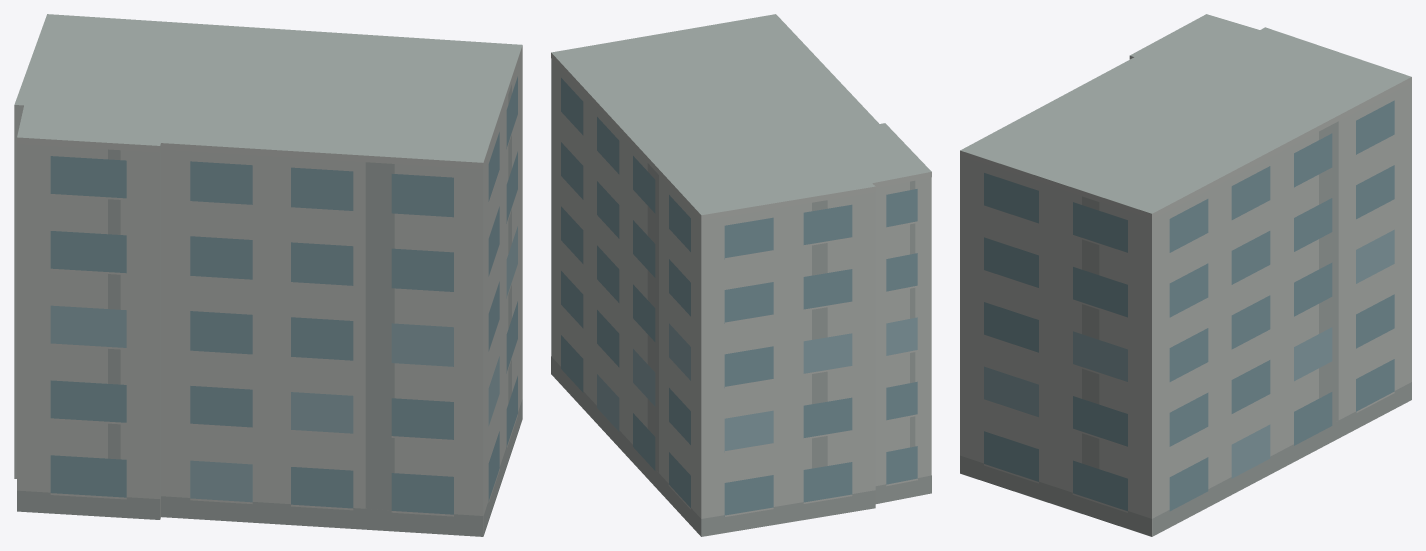
Rendered from survey-upis-32817425.glb.
The picture shows the model from 3 angles, left to right: view 1: azimuth 30°, elevation 25°; view 2: azimuth 150°, elevation 25°; view 3: azimuth 270°, elevation 25°; orthographic projection. The views are drawn at different scales.
Parts seen in each view (by area): view 1: survey-upis-32817425.tmp; view 2: survey-upis-32817425.tmp; view 3: survey-upis-32817425.tmp.
Part boxes in pixels (x1,y1,x2,y2): survey-upis-32817425.tmp: [14, 14, 522, 536]; survey-upis-32817425.tmp: [551, 14, 931, 536]; survey-upis-32817425.tmp: [960, 14, 1411, 536].
Bounding box in the file's own units: 18.31 × 13.8 × 17.5.
